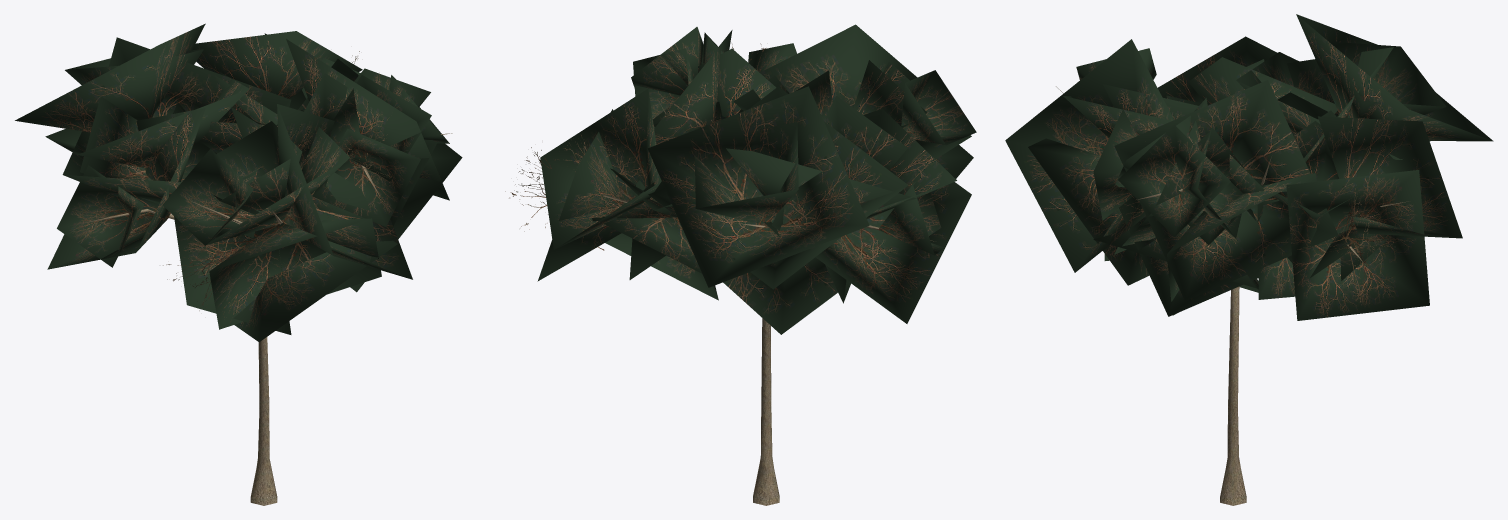
File: decd_mapletreebranches_a1_l0.fbx
The picture shows the model from 3 angles, left to right: view 1: azimuth 30°, elevation 25°; view 2: azimuth 150°, elevation 25°; view 3: azimuth 270°, elevation 25°; orthographic projection.
Parts seen in each view (by area): view 1: mesh_node; view 2: mesh_node; view 3: mesh_node.
Part boxes in pixels (<box>): mesh_node: <box>15,23,462,505</box>; mesh_node: <box>505,24,976,505</box>; mesh_node: <box>1005,14,1493,505</box>.
Bounding box in the file's own units: 17.13 × 18.7 × 18.41.
